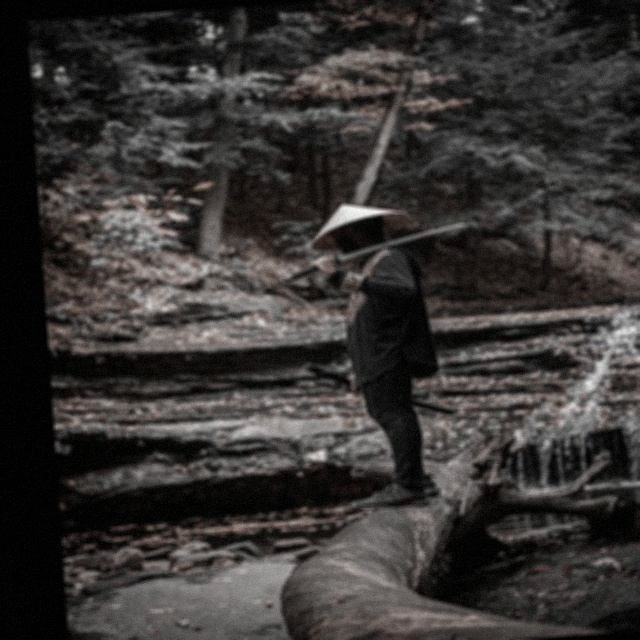Sharp-Object: (260, 216, 481, 293)
